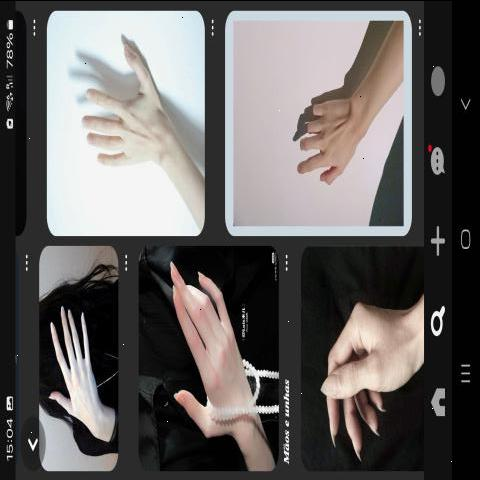Hands: (151, 256, 265, 464), (304, 274, 420, 462), (61, 24, 190, 188), (279, 74, 389, 196), (42, 276, 108, 436)
